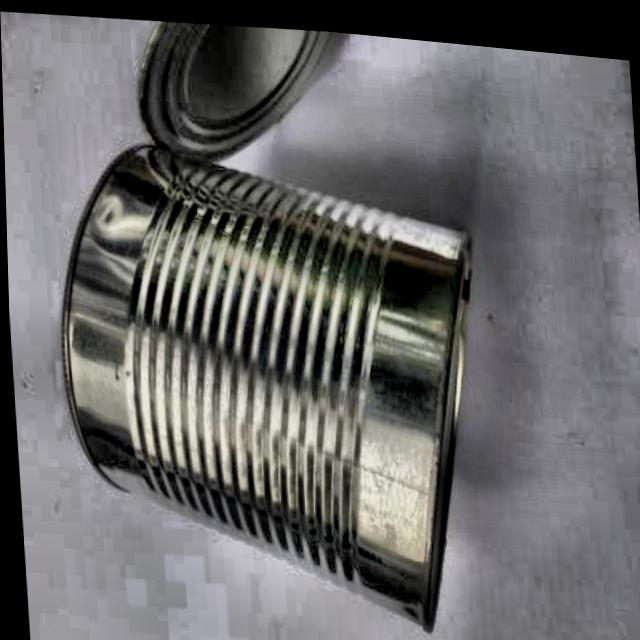Cans: (12, 1, 503, 640)
